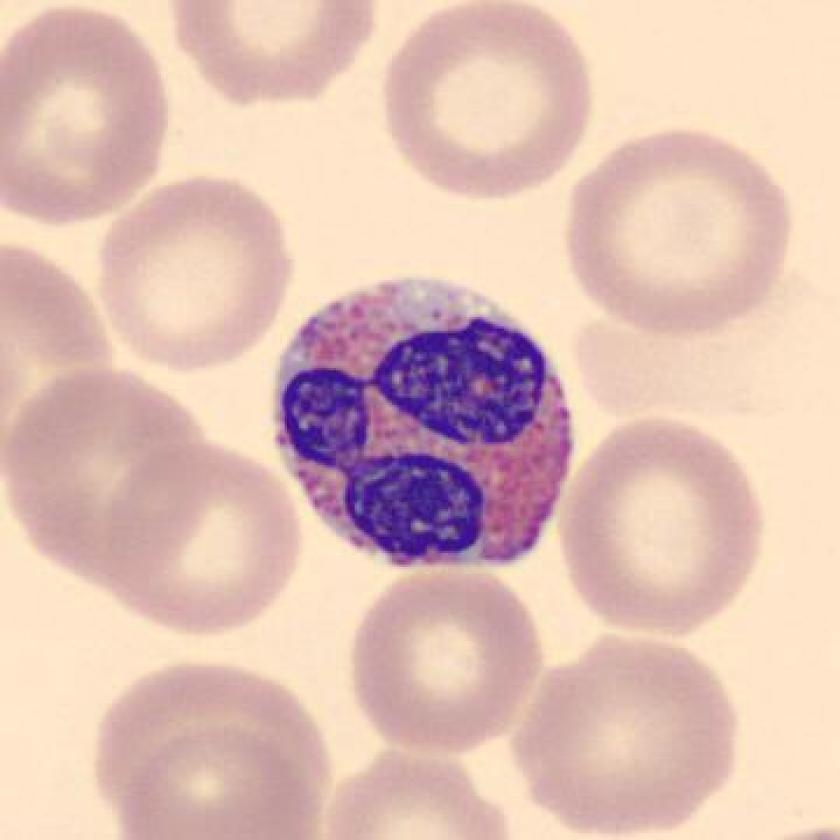eosinophil: (256, 263, 585, 587)
